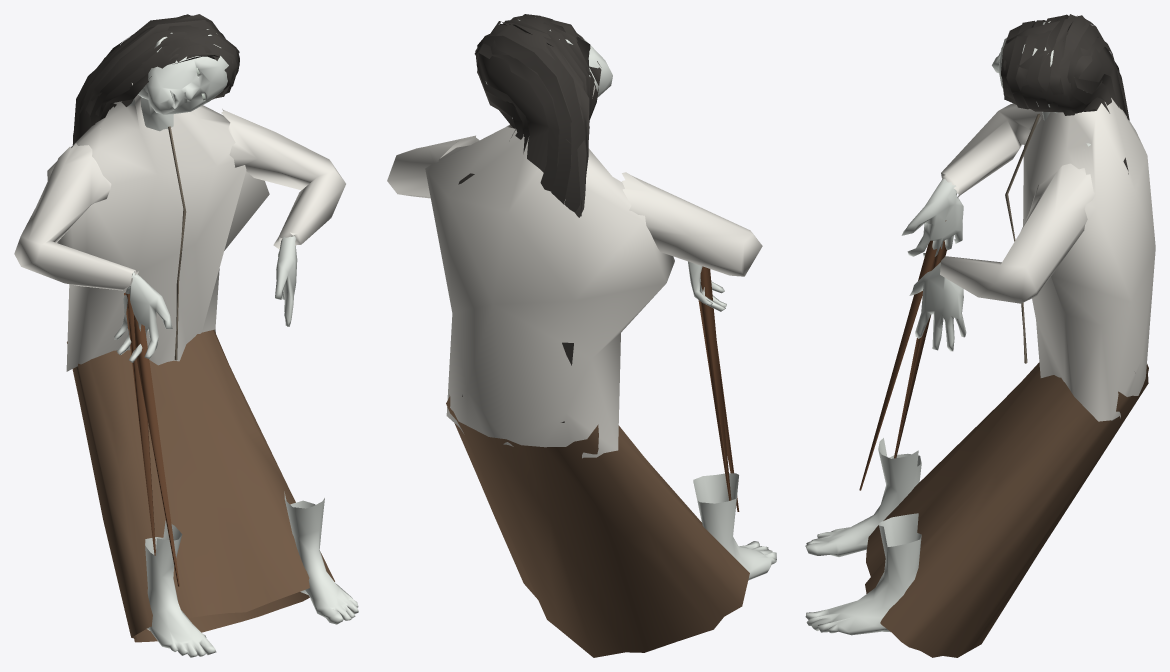
The model's file is SriAtmajaSeated.fbx.
The picture shows the model from 3 angles, left to right: view 1: azimuth 30°, elevation 25°; view 2: azimuth 150°, elevation 25°; view 3: azimuth 270°, elevation 25°; orthographic projection. The views are drawn at different scales.
Parts seen in each view (by area): view 1: Echo_LongBatikSkirt, Echo_TailoredIvoryKebaya, Echo_VisibleSkin, Echo_KebayaSleeves, Echo_long01, Echo_Shears, Echo_ShearsSecondBlade, Echo_KebayaSeam; view 2: Echo_TailoredIvoryKebaya, Echo_LongBatikSkirt, Echo_long01, Echo_KebayaSleeves, Echo_VisibleSkin, Echo_ShearsSecondBlade; view 3: Echo_LongBatikSkirt, Echo_TailoredIvoryKebaya, Echo_VisibleSkin, Echo_KebayaSleeves, Echo_long01, Echo_Shears, Echo_ShearsSecondBlade, Echo_KebayaSeam.
Boxes of the visible parts, bbox=[...] form: Echo_LongBatikSkirt: bbox=[67, 330, 334, 642]; Echo_TailoredIvoryKebaya: bbox=[47, 83, 269, 371]; Echo_VisibleSkin: bbox=[100, 29, 358, 657]; Echo_KebayaSleeves: bbox=[14, 108, 345, 290]; Echo_long01: bbox=[72, 14, 239, 144]; Echo_Shears: bbox=[127, 308, 179, 586]; Echo_ShearsSecondBlade: bbox=[124, 292, 155, 555]; Echo_KebayaSeam: bbox=[168, 126, 186, 360]; Echo_TailoredIvoryKebaya: bbox=[425, 85, 674, 458]; Echo_LongBatikSkirt: bbox=[446, 395, 749, 657]; Echo_long01: bbox=[458, 14, 601, 422]; Echo_KebayaSleeves: bbox=[387, 135, 762, 276]; Echo_VisibleSkin: bbox=[485, 19, 776, 580]; Echo_ShearsSecondBlade: bbox=[698, 266, 731, 500]; Echo_LongBatikSkirt: bbox=[865, 362, 1148, 657]; Echo_TailoredIvoryKebaya: bbox=[1023, 98, 1155, 421]; Echo_VisibleSkin: bbox=[805, 21, 1090, 635]; Echo_KebayaSleeves: bbox=[940, 103, 1095, 303]; Echo_long01: bbox=[1001, 14, 1129, 174]; Echo_Shears: bbox=[859, 220, 946, 490]; Echo_ShearsSecondBlade: bbox=[894, 220, 946, 458]; Echo_KebayaSeam: bbox=[1005, 113, 1040, 363].
Bounding box in the file's own units: 73.38 × 130 × 65.41.
